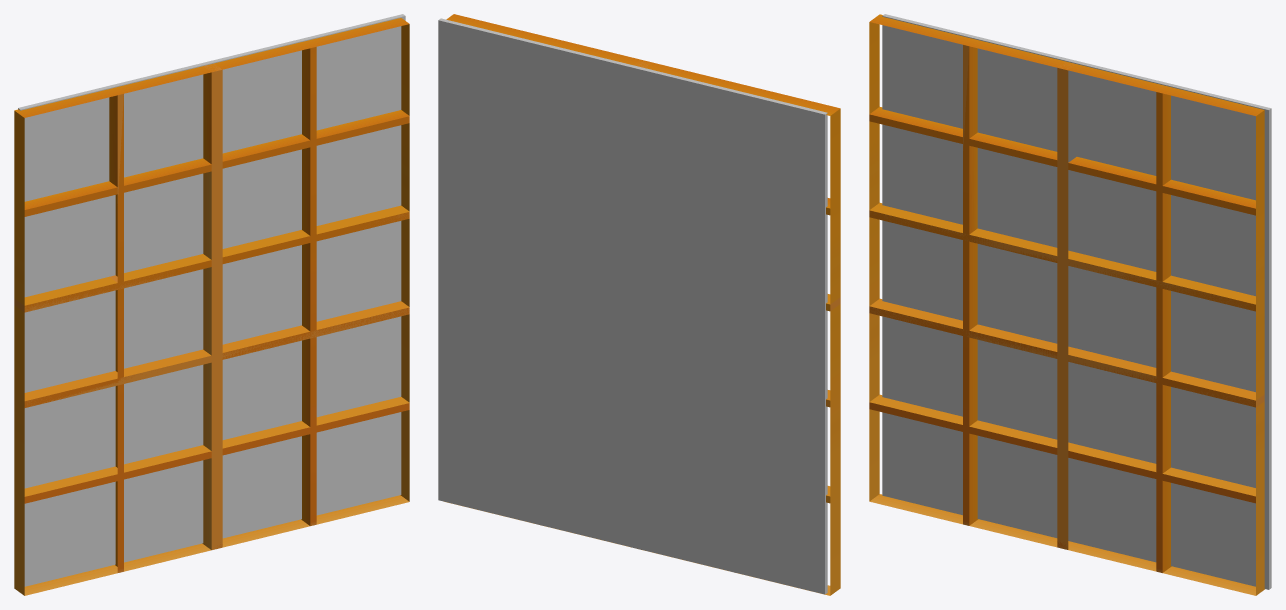
File: ventana.obj
3 views of the same model, side by side, from view 1: azimuth 30°, elevation 25°; view 2: azimuth 150°, elevation 25°; view 3: azimuth 330°, elevation 25° (orthographic).
Visible parts, largest first — view 1: Vidrio1.003_Cube.005_Cube.004, Vidrio1.004_Cube.005_Cube.005; view 2: Vidrio1.003_Cube.005_Cube.004, Vidrio1.004_Cube.005_Cube.005; view 3: Vidrio1.003_Cube.005_Cube.004, Vidrio1.004_Cube.005_Cube.005.
Boxes of the visible parts, box(x1,y1,x2,y2) form: Vidrio1.003_Cube.005_Cube.004: box(18, 14, 405, 586); Vidrio1.004_Cube.005_Cube.005: box(14, 18, 409, 595); Vidrio1.003_Cube.005_Cube.004: box(438, 18, 827, 594); Vidrio1.004_Cube.005_Cube.005: box(444, 14, 840, 595); Vidrio1.003_Cube.005_Cube.004: box(882, 14, 1271, 589); Vidrio1.004_Cube.005_Cube.005: box(869, 14, 1264, 595).
Size of the model in its own units: 9.87 by 11.59 by 0.4874.
